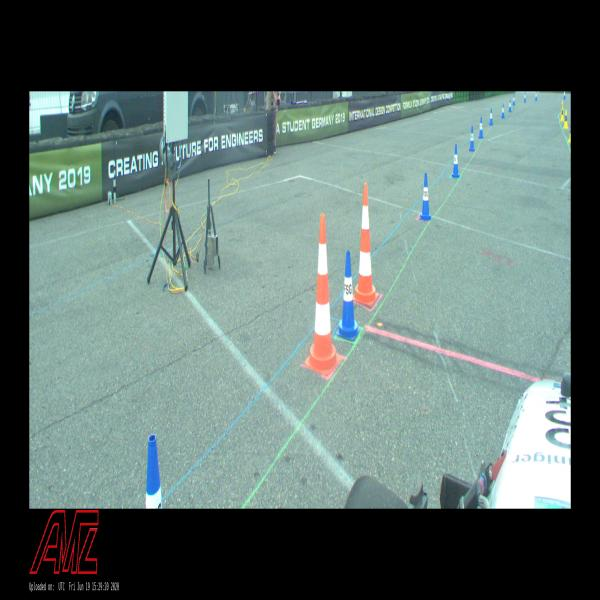blue_cone: (336, 250, 361, 340), (146, 434, 162, 508), (419, 173, 433, 221), (452, 144, 460, 178), (469, 126, 475, 151), (478, 117, 484, 138), (489, 107, 494, 126), (501, 103, 505, 118), (512, 94, 516, 105), (508, 98, 511, 112), (535, 91, 538, 101), (563, 91, 566, 99), (524, 92, 526, 102)
large_orange_cone: (305, 214, 340, 376), (353, 182, 379, 306)
yellow_cone: (564, 110, 568, 129), (560, 106, 564, 121), (568, 124, 571, 143), (561, 101, 564, 114)
